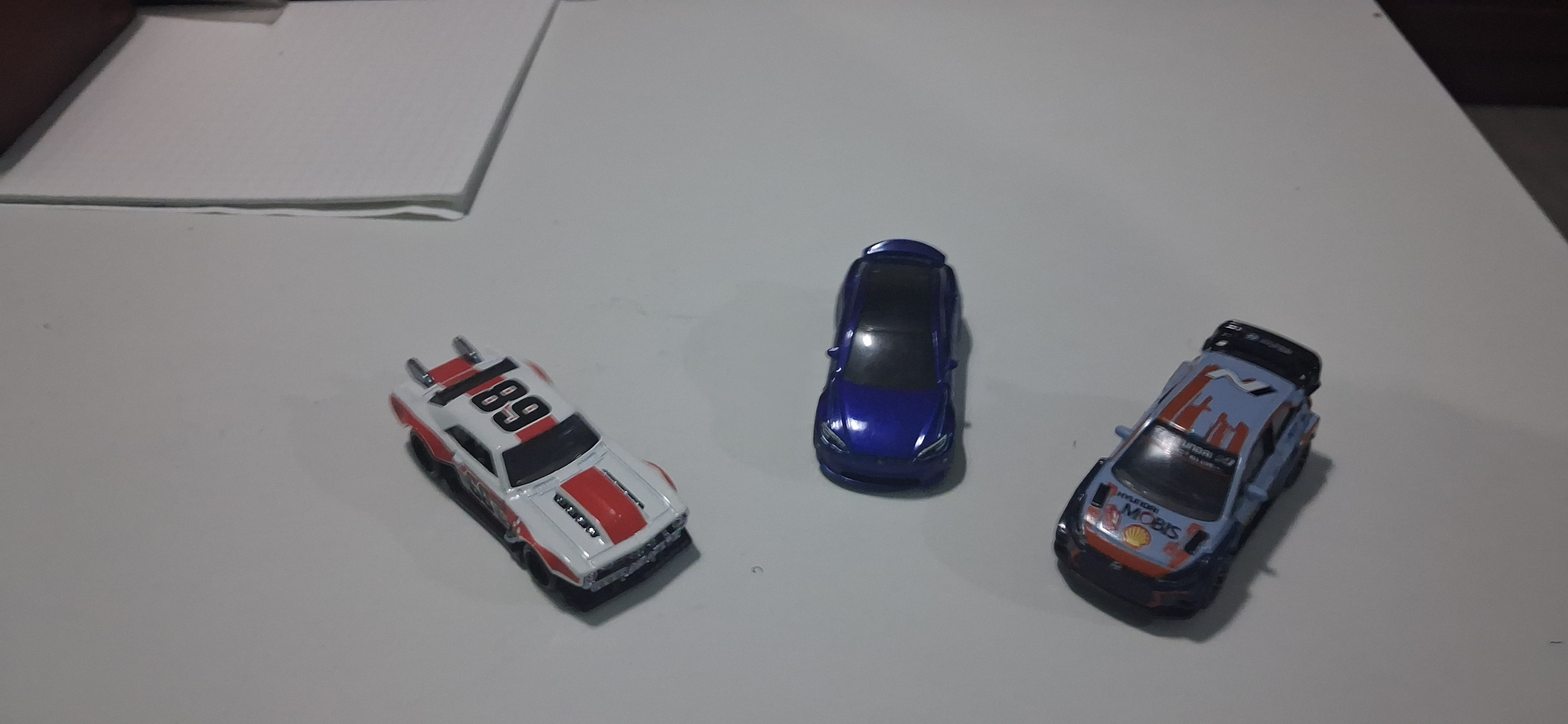Camaro: (337, 322, 729, 642)
Hyundai_I20_WRC: (1049, 315, 1365, 653)
Tesla_Model_S_Plaid: (796, 218, 978, 532)
